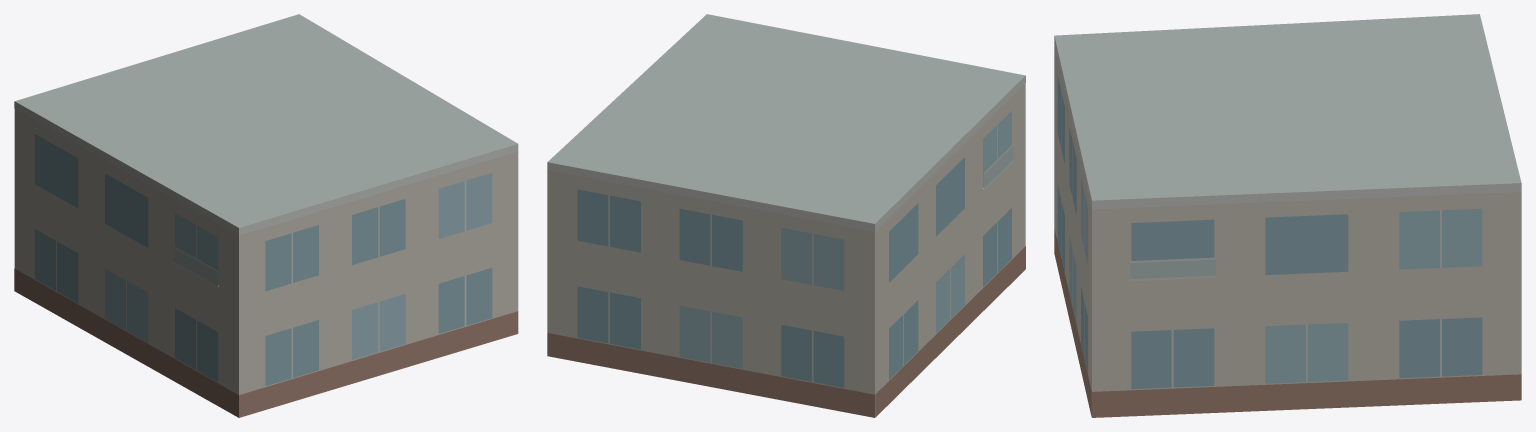
File: survey-upis-32674741.glb
3 views of the same model, side by side, from view 1: azimuth 30°, elevation 25°; view 2: azimuth 150°, elevation 25°; view 3: azimuth 270°, elevation 25° (orthographic). The views are drawn at different scales.
Parts seen in each view (by area): view 1: survey-upis-32674741.tmp; view 2: survey-upis-32674741.tmp; view 3: survey-upis-32674741.tmp.
Boxes of the visible parts, <box> form: survey-upis-32674741.tmp: <box>14,14,518,417</box>; survey-upis-32674741.tmp: <box>547,14,1025,417</box>; survey-upis-32674741.tmp: <box>1054,14,1521,417</box>.
Bounding box in the file's own units: 11.24 × 6.1 × 11.9.
